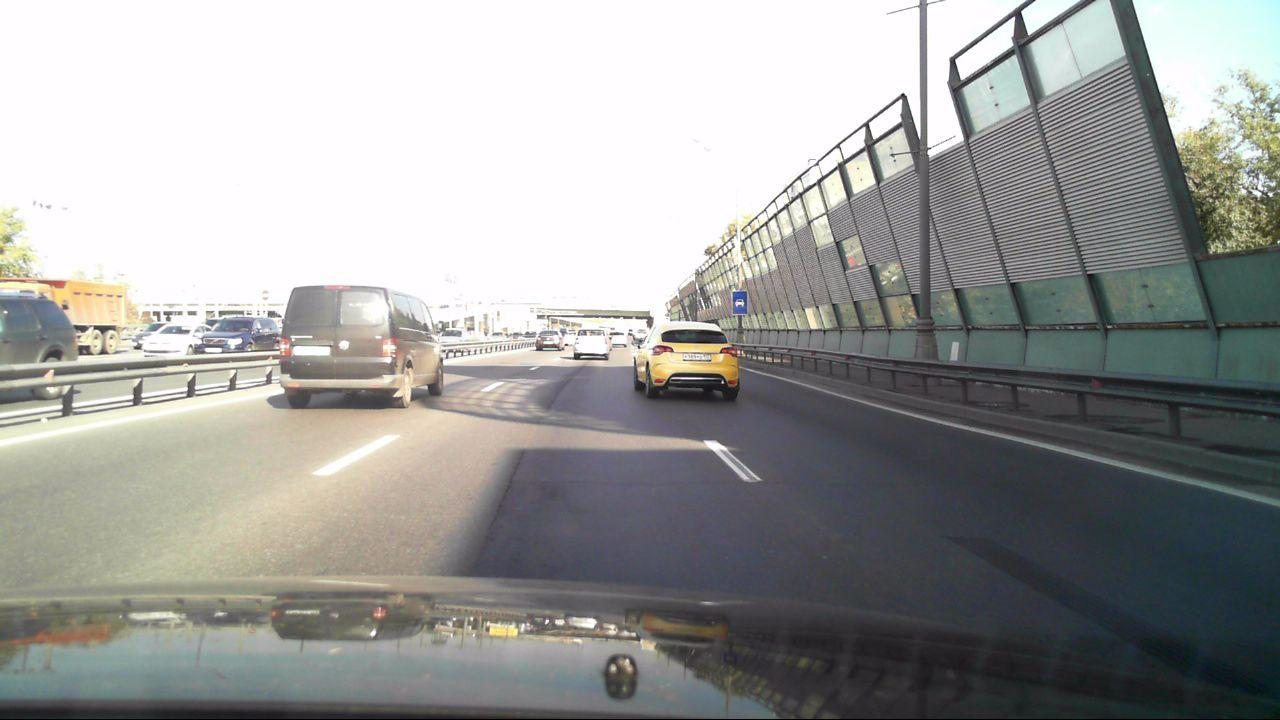5_3: (731, 289, 747, 315)
